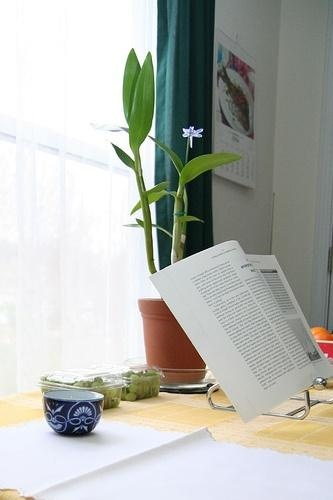pottedplant: (89, 49, 244, 394)
